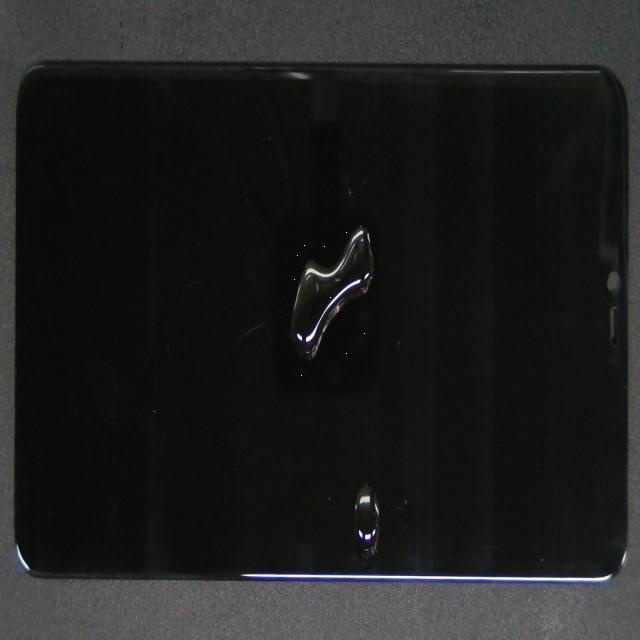oil: (174, 256, 521, 640), (197, 113, 556, 338)
